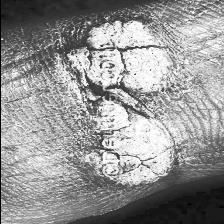Toxin: (118, 22, 186, 192), (53, 33, 93, 160)
